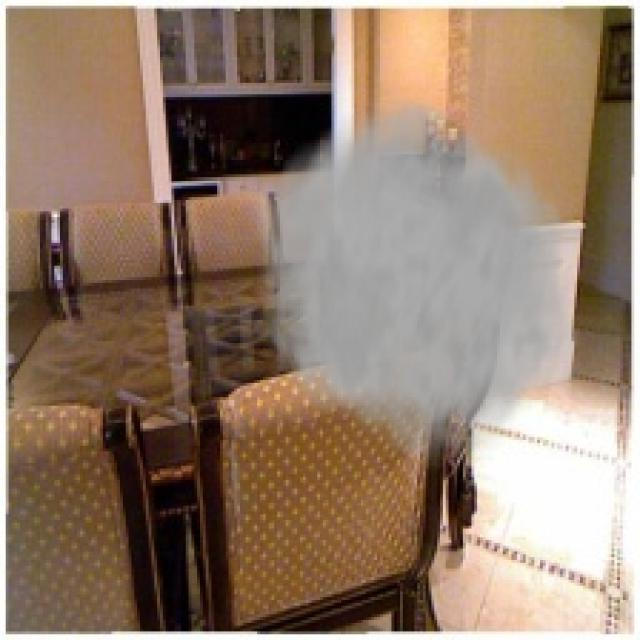Smoke: (240, 86, 583, 477)
